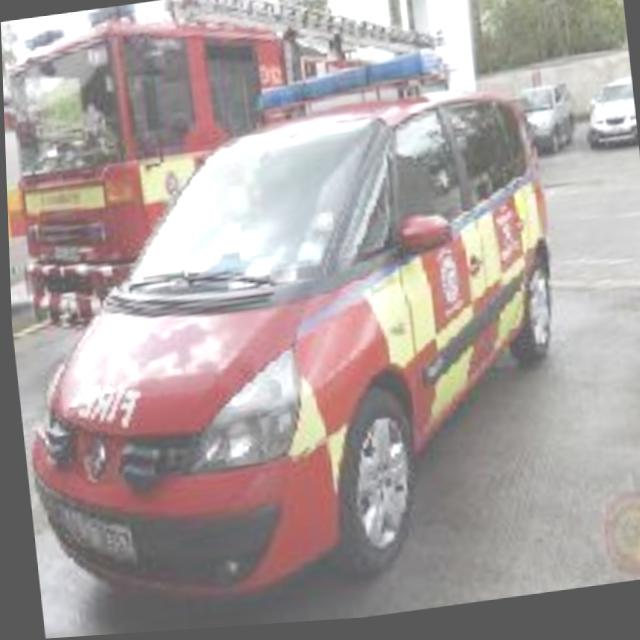emergency: (2, 41, 584, 628), (0, 0, 469, 339), (2, 64, 58, 318)
